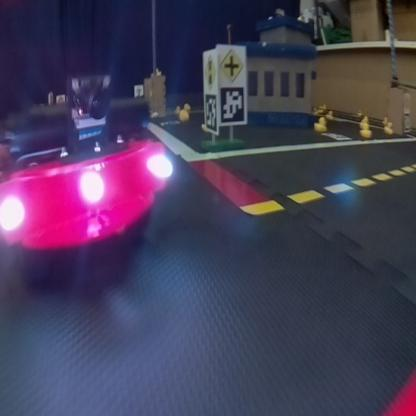duckiebot: (0, 62, 180, 274)
